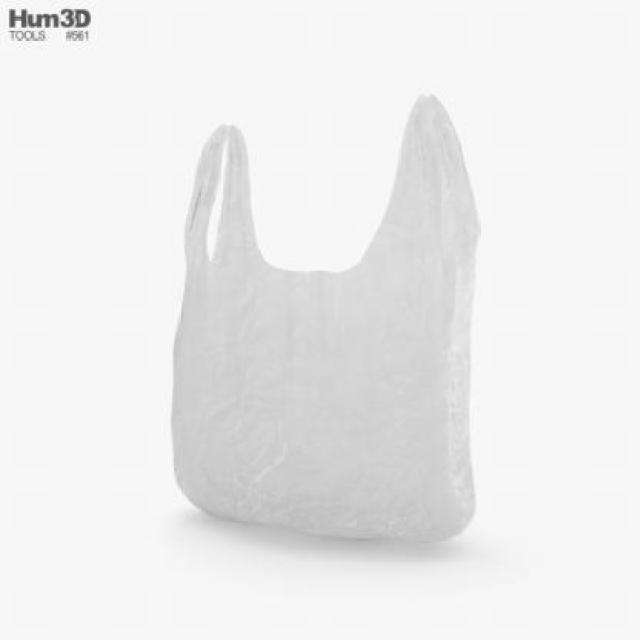plastic bag: (157, 85, 494, 546)
